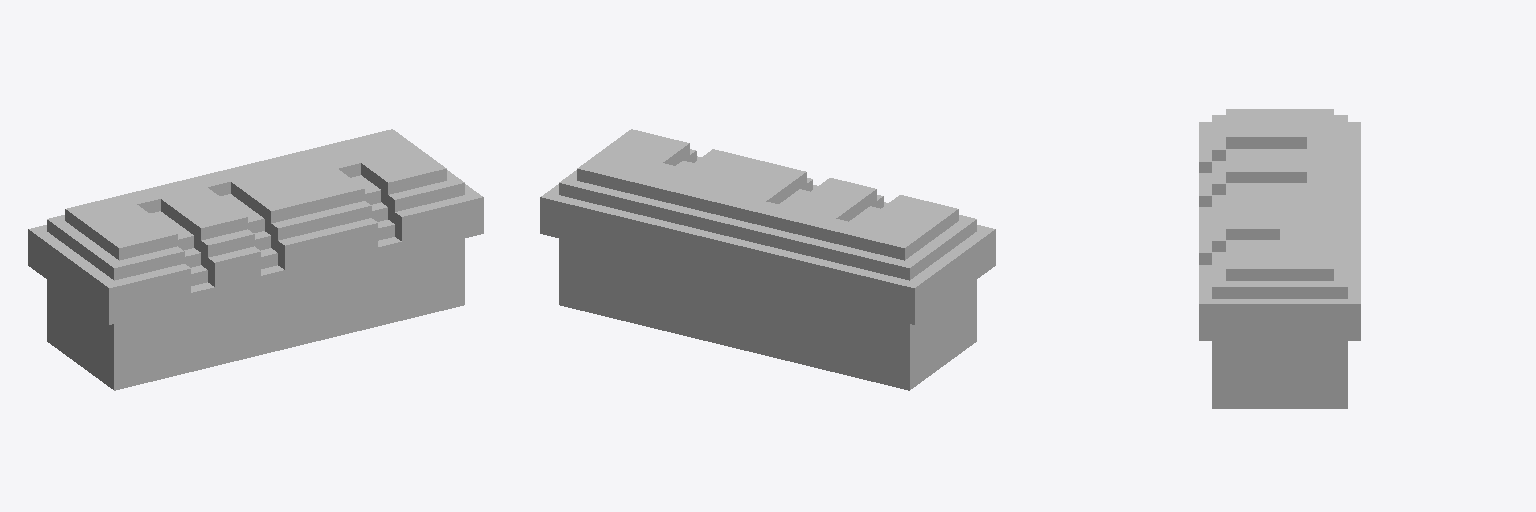
Rendered from pumpkin_bread.obj.
3 renders of one model, left to right at view 1: azimuth 30°, elevation 25°; view 2: azimuth 150°, elevation 25°; view 3: azimuth 270°, elevation 25°, orthographic.
Visible parts, largest first — view 1: pumpkin_bread; view 2: pumpkin_bread; view 3: pumpkin_bread.
Part boxes in pixels (left/top/right/bottom): pumpkin_bread: left=28, top=129, right=483, bottom=390; pumpkin_bread: left=540, top=129, right=995, bottom=390; pumpkin_bread: left=1199, top=109, right=1360, bottom=408.
Size of the model in its own units: 32 by 11 by 12.